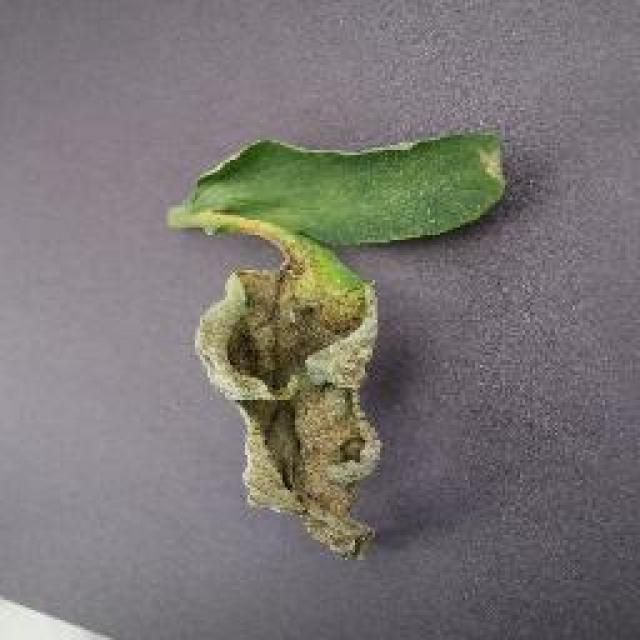Tomato___Late_blight: (165, 128, 510, 562)
